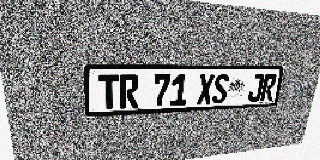1: (170, 74, 188, 106)
7: (152, 74, 171, 107)
J: (247, 74, 265, 102)
R: (120, 74, 139, 109), (260, 74, 277, 101)
S: (212, 74, 230, 104)
T: (98, 75, 119, 110)
X: (197, 74, 215, 105)
